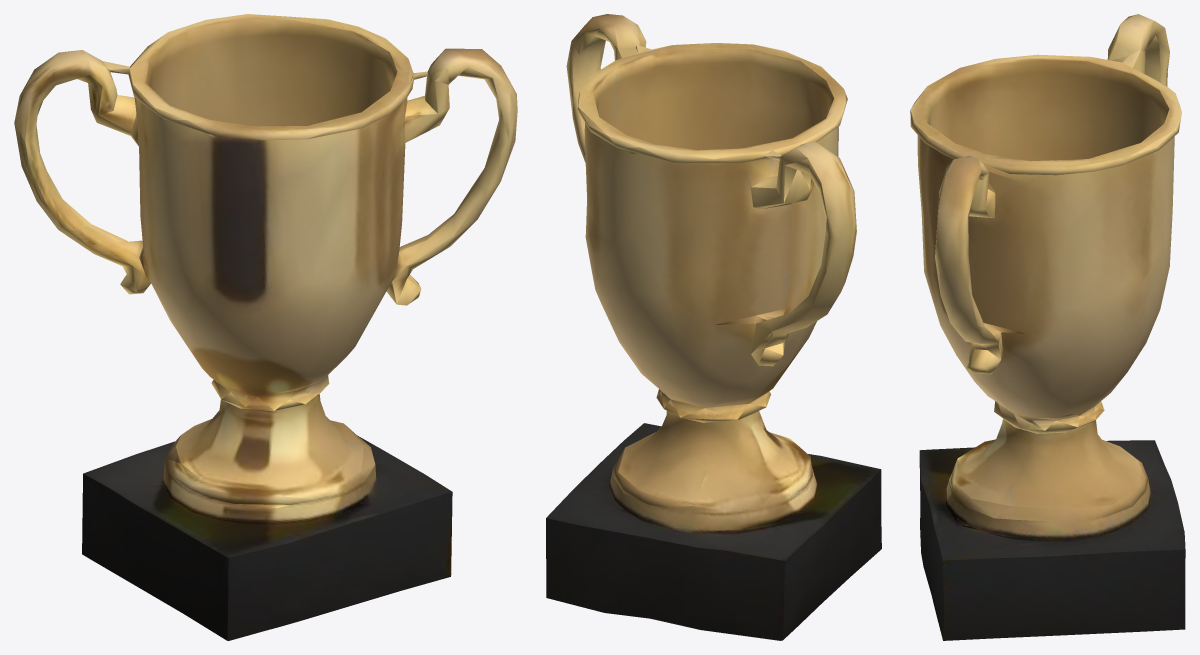
File: finalTrophy.glb
3 renders of one model, left to right at view 1: azimuth 30°, elevation 25°; view 2: azimuth 150°, elevation 25°; view 3: azimuth 270°, elevation 25°, orthographic. The views are drawn at different scales.
Visible parts, largest first — view 1: model; view 2: model; view 3: model.
Boxes of the visible parts, x1,y1,x2,y2 form: model: (14,14,517,640); model: (546,14,881,640); model: (910,14,1185,640).
Bounding box in the file's own units: 1.53 × 1.89 × 0.9558.
Materials: 1 (1 with a texture image).
